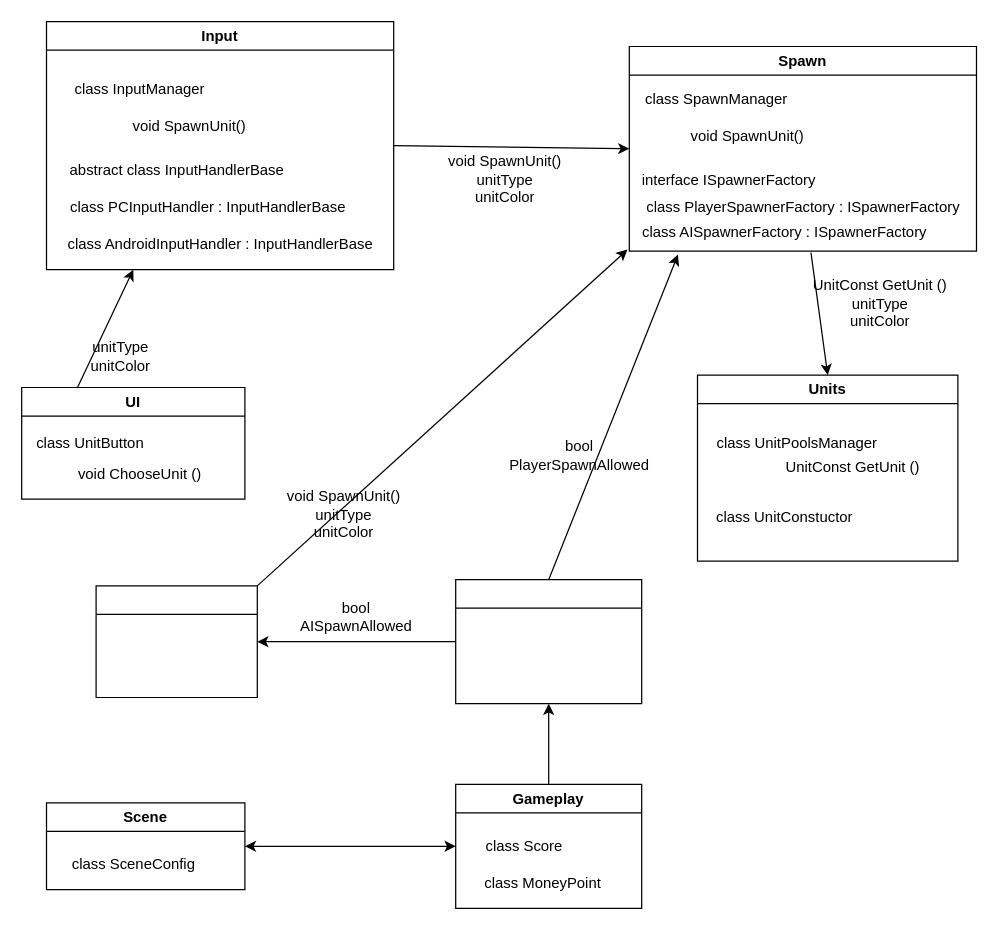
Some shapes in this 998 by 930 pixel diagram are drawn without their labels. Each missing label, with the centre of its shape:
"AI" belongs at [176,641].
"Bank" belongs at [548,641].
